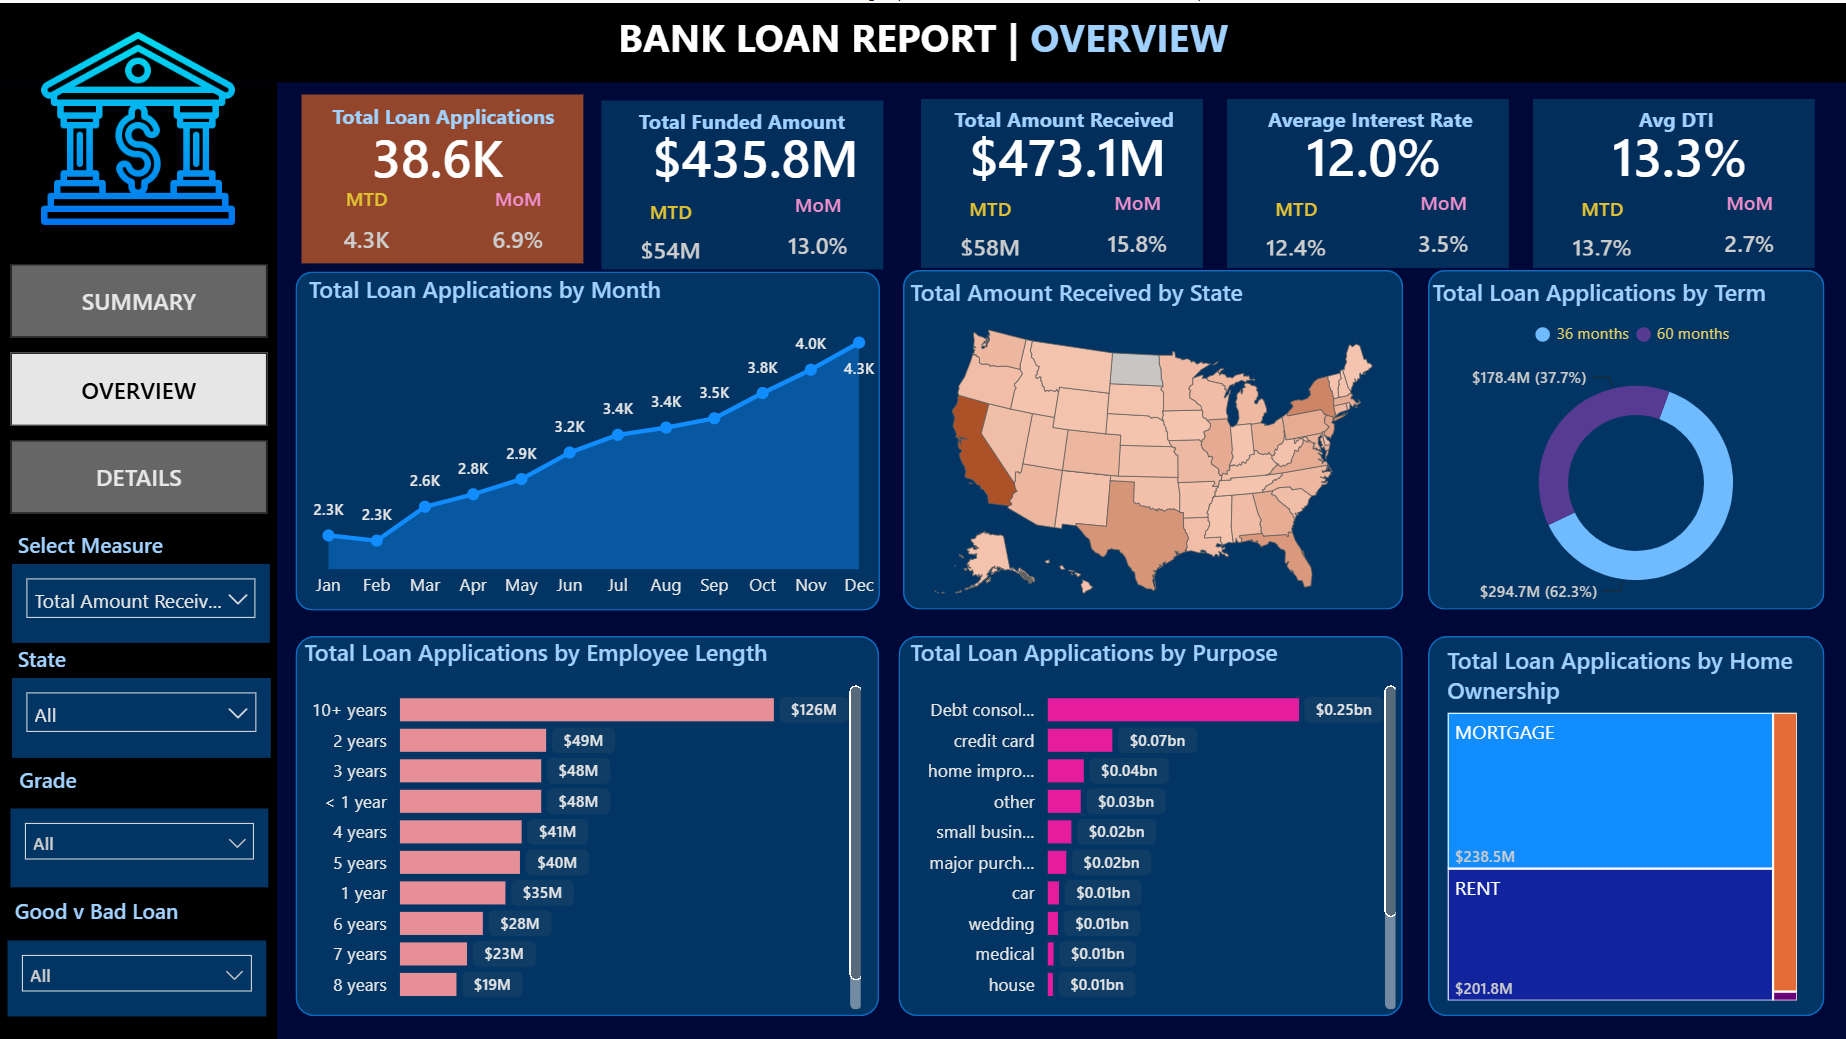

Layout of this report page (visuals, bound fields, positions):
{"tool":"powerbi","page":{"name":"OVERVIEW","canvas":[1280,720],"ordinal":1},"visuals":[{"type":"shape","box":[208.8,63.8,195.5,117],"z":0,"group":"g1"},{"type":"shape","box":[638.3,66.6,195.5,117],"z":0,"group":"g4"},{"type":"shape","box":[850.6,66.6,195.5,117],"z":0,"group":"g3"},{"type":"shape","box":[1062.9,66.6,195.5,117],"z":0,"group":"g5"},{"type":"shape","box":[416.9,68.1,195.5,117],"z":0,"group":"g2"},{"type":"shape","box":[204.3,186,405,235],"z":0},{"type":"shape","box":[0,0,1279.5,55],"z":1000},{"type":"cardVisual","fields":{"Data":["financial_loan (1).Total Funded Amount"]},"box":[421.9,63.8,203.8,83.7],"z":1000,"group":"g2"},{"type":"cardVisual","fields":{"Data":["financial_loan (1).Total Amount Received"]},"box":[641.5,63.8,197.1,82.3],"z":1000,"group":"g4"},{"type":"cardVisual","fields":{"Data":["financial_loan (1).Avg Interest Rate"]},"box":[853.8,63.8,197.1,82.3],"z":1000,"group":"g3"},{"type":"cardVisual","fields":{"Data":["financial_loan (1).Avg DTI"]},"box":[1066.1,63.8,197.1,82.3],"z":1000,"group":"g5"},{"type":"cardVisual","fields":{"Data":["financial_loan (1).Total Loan Applications"]},"box":[215.7,66.7,175,76.1],"z":1000,"group":"g1"},{"type":"shape","box":[0,54.7,192,664.6],"z":2000},{"type":"textbox","box":[219.4,63.8,175.6,35.9],"z":2000,"group":"g1"},{"type":"textbox","box":[649.4,65.5,175.7,40.7],"z":2000,"group":"g4"},{"type":"textbox","box":[861.7,65.5,175.7,40.7],"z":2000,"group":"g3"},{"type":"textbox","box":[1074,65.5,175.7,40.7],"z":2000,"group":"g5"},{"type":"textbox","box":[428,67.1,175.7,40.7],"z":2000,"group":"g2"},{"type":"textbox","box":[412.5,0,454.5,57.3],"z":3000},{"type":"cardVisual","title":"MTD","fields":{"Data":["financial_loan (1).MTD Loan Applications"]},"box":[208.8,126.3,90.4,54.5],"z":3000,"group":"g1"},{"type":"cardVisual","title":"MTD","fields":{"Data":["financial_loan (1).MTD Total Amount Recieved"]},"box":[637.9,133.7,96.2,50.8],"z":3000,"group":"g4"},{"type":"cardVisual","title":"MTD","fields":{"Data":["financial_loan (1).MTD Avg Int Rate"]},"box":[850.2,133.7,96.2,50.8],"z":3000,"group":"g3"},{"type":"cardVisual","title":"MTD","fields":{"Data":["financial_loan (1).MTD Avg DTI"]},"box":[1062.5,133.7,96.2,50.8],"z":3000,"group":"g5"},{"type":"cardVisual","title":"MTD","fields":{"Data":["financial_loan (1).MTD Funded Amount"]},"box":[416.5,135.2,96.2,50.8],"z":3000,"group":"g2"},{"type":"group","id":"g1","title":"Group 1","box":[208.8,63.8,195.5,117],"z":4000},{"type":"cardVisual","title":"MoM","fields":{"Data":["financial_loan (1).MoM Loan Application"]},"box":[313.9,126.3,90.4,54.5],"z":4000,"group":"g1"},{"type":"cardVisual","title":"MoM","fields":{"Data":["financial_loan (1).MoM Total Amount Recieved"]},"box":[743.4,129.1,90.4,54.5],"z":4000,"group":"g4"},{"type":"cardVisual","title":"MoM","fields":{"Data":["financial_loan (1).MoM Avg Int Rate"]},"box":[955.7,129.1,90.4,54.5],"z":4000,"group":"g3"},{"type":"cardVisual","title":"MoM","fields":{"Data":["financial_loan (1).MoM Avg DTI"]},"box":[1168,129.1,90.4,54.5],"z":4000,"group":"g5"},{"type":"cardVisual","title":"MoM","fields":{"Data":["financial_loan (1).MoM Total Funded Amount"]},"box":[522,130.6,90.4,54.5],"z":4000,"group":"g2"},{"type":"group","id":"g2","title":"Group 1","box":[416.5,63.8,209.2,122.2],"z":5000},{"type":"group","id":"g3","title":"Group 1","box":[850.2,63.8,200.1,121.2],"z":6000},{"type":"group","id":"g4","title":"Group 1","box":[637.9,63.8,200.1,121.2],"z":7000},{"type":"group","id":"g5","title":"Group 1","box":[1062.5,63.8,200.1,121.2],"z":8000},{"type":"slicer","fields":{"Values":["financial_loan (1).address_state"]},"box":[8.3,467.7,179,55.5],"z":9000},{"type":"textbox","box":[6.9,438.5,174.7,35.2],"z":10000},{"type":"slicer","fields":{"Values":["financial_loan (1).grade"]},"box":[6.9,557.9,179,55],"z":11000},{"type":"textbox","box":[8.3,523.2,174.7,35.2],"z":12000},{"type":"areaChart","title":" Total Loan Applications by Month","fields":{"Y":["financial_loan(1).Total Loan Applications"],"Category":["Date Table.Month"]},"box":[208.5,186.9,404.4,233.9],"z":13000},{"type":"slicer","fields":{"Values":["financial_loan (1).Good vs Bad Loan"]},"box":[5.6,649.5,179,52.7],"z":13000,"group":"g6"},{"type":"slicer","fields":{"Values":["Select Measure.Select Measure"]},"box":[8.3,388.6,179,55],"z":14000},{"type":"textbox","box":[5.6,613.4,174.7,35.2],"z":14000,"group":"g6"},{"type":"shape","box":[625.7,184.6,346.7,235.3],"z":15000},{"type":"shapeMap","fields":{"Value":["Factloans.Total Amount Received"],"Category":["financial_loan (1).address_state"]},"box":[625.7,188.8,346.7,235.3],"z":16000},{"type":"shape","box":[989.2,184.6,274.8,235.3],"z":17000},{"type":"donutChart","title":"Total Loan Applications by Term","fields":{"Y":["Factloans.Total Amount Received"],"Category":["financial_loan (1).term"]},"box":[987.8,188.8,291.7,238.2],"z":18000},{"type":"shape","box":[204.3,438.3,404.4,263.5],"z":19000},{"type":"shape","box":[622.9,438.3,349.5,263.5],"z":20000},{"type":"barChart","title":"Total Loan Applications by Employee Length","fields":{"Y":["Factloans.Total Amount Received"],"Category":["financial_loan (1).emp_length"]},"box":[205.4,438.5,396,263.5],"z":21000},{"type":"barChart","title":"Total Loan Applications by Purpose","fields":{"Y":["Factloans.Total Amount Received"],"Category":["Factloans.purpose"]},"box":[625.7,438.3,346.7,263.5],"z":22000},{"type":"shape","box":[989.2,438.3,274.8,263.5],"z":23000},{"type":"treemap","title":"Total Loan Applications by Home Ownership","fields":{"Values":["Factloans.Total Amount Received"],"Group":["financial_loan (1).home_ownership"]},"box":[997.7,443.9,252.2,252.2],"z":24000},{"type":"textbox","box":[6.9,359.4,174.7,35.2],"z":25000},{"type":"pageNavigator","box":[6.9,180.4,179,174.7],"z":26000},{"type":"image","box":[0,15.3,191.5,142.9],"z":27000},{"type":"group","id":"g6","title":"Group 2","box":[5.6,613.4,179,88.8],"z":28000}]}

Visuals, with their boxes in screenshot pixels (x1, y1, x2, y2), scaled from the page's 1280x720 canvas onto the 1846x1039 screenshot:
shape: [left=301, top=92, right=583, bottom=261]
shape: [left=921, top=96, right=1202, bottom=265]
shape: [left=1227, top=96, right=1509, bottom=265]
shape: [left=1533, top=96, right=1815, bottom=265]
shape: [left=601, top=98, right=883, bottom=267]
shape: [left=295, top=268, right=879, bottom=608]
shape: [left=0, top=0, right=1845, bottom=79]
cardVisual - financial_loan (1).Total Funded Amount: [left=608, top=92, right=902, bottom=213]
cardVisual - financial_loan (1).Total Amount Received: [left=925, top=92, right=1209, bottom=211]
cardVisual - financial_loan (1).Avg Interest Rate: [left=1231, top=92, right=1516, bottom=211]
cardVisual - financial_loan (1).Avg DTI: [left=1538, top=92, right=1822, bottom=211]
cardVisual - financial_loan (1).Total Loan Applications: [left=311, top=96, right=563, bottom=206]
shape: [left=0, top=79, right=277, bottom=1038]
textbox: [left=316, top=92, right=570, bottom=144]
textbox: [left=937, top=95, right=1190, bottom=153]
textbox: [left=1243, top=95, right=1496, bottom=153]
textbox: [left=1549, top=95, right=1802, bottom=153]
textbox: [left=617, top=97, right=871, bottom=156]
textbox: [left=595, top=0, right=1250, bottom=83]
"MTD" cardVisual: [left=301, top=182, right=432, bottom=261]
"MTD" cardVisual: [left=920, top=193, right=1059, bottom=266]
"MTD" cardVisual: [left=1226, top=193, right=1365, bottom=266]
"MTD" cardVisual: [left=1532, top=193, right=1671, bottom=266]
"MTD" cardVisual: [left=601, top=195, right=739, bottom=268]
"Group 1" group: [left=301, top=92, right=583, bottom=261]
"MoM" cardVisual: [left=453, top=182, right=583, bottom=261]
"MoM" cardVisual: [left=1072, top=186, right=1202, bottom=265]
"MoM" cardVisual: [left=1378, top=186, right=1509, bottom=265]
"MoM" cardVisual: [left=1684, top=186, right=1815, bottom=265]
"MoM" cardVisual: [left=753, top=188, right=883, bottom=267]
"Group 1" group: [left=601, top=92, right=902, bottom=268]
"Group 1" group: [left=1226, top=92, right=1515, bottom=267]
"Group 1" group: [left=920, top=92, right=1209, bottom=267]
"Group 1" group: [left=1532, top=92, right=1821, bottom=267]
slicer - financial_loan (1).address_state: [left=12, top=675, right=270, bottom=755]
textbox: [left=10, top=633, right=262, bottom=684]
slicer - financial_loan (1).grade: [left=10, top=805, right=268, bottom=884]
textbox: [left=12, top=755, right=264, bottom=806]
" Total Loan Applications by Month" areaChart: [left=301, top=270, right=884, bottom=607]
slicer - financial_loan (1).Good vs Bad Loan: [left=8, top=937, right=266, bottom=1013]
slicer - Select Measure.Select Measure: [left=12, top=561, right=270, bottom=640]
textbox: [left=8, top=885, right=260, bottom=936]
shape: [left=902, top=266, right=1402, bottom=606]
shapeMap - Factloans.Total Amount Received x financial_loan (1).address_state: [left=902, top=272, right=1402, bottom=612]
shape: [left=1427, top=266, right=1823, bottom=606]
"Total Loan Applications by Term" donutChart: [left=1425, top=272, right=1845, bottom=616]
shape: [left=295, top=632, right=878, bottom=1013]
shape: [left=898, top=632, right=1402, bottom=1013]
"Total Loan Applications by Employee Length" barChart: [left=296, top=633, right=867, bottom=1013]
"Total Loan Applications by Purpose" barChart: [left=902, top=632, right=1402, bottom=1013]
shape: [left=1427, top=632, right=1823, bottom=1013]
"Total Loan Applications by Home Ownership" treemap: [left=1439, top=641, right=1803, bottom=1005]
textbox: [left=10, top=519, right=262, bottom=569]
pageNavigator: [left=10, top=260, right=268, bottom=512]
image: [left=0, top=22, right=276, bottom=228]
"Group 2" group: [left=8, top=885, right=266, bottom=1013]
